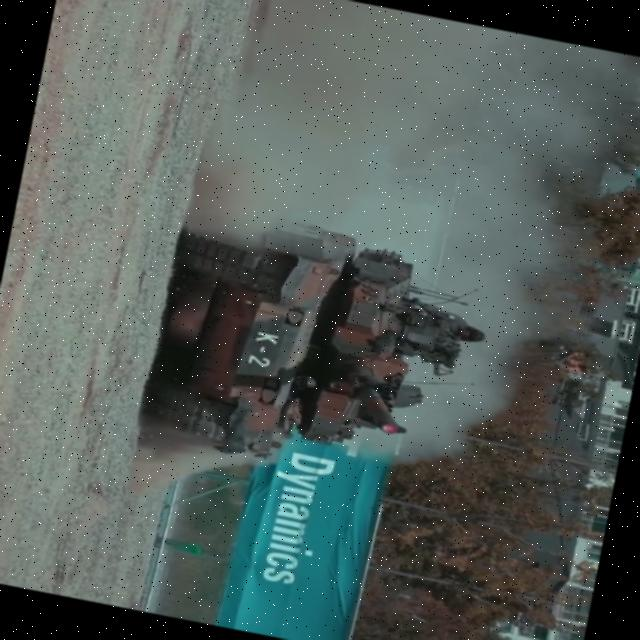korea tank: (136, 200, 500, 496)
